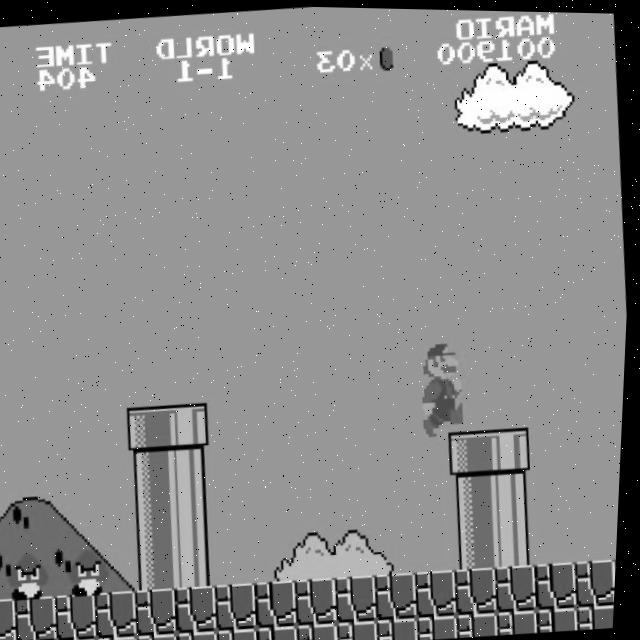0- big_mario: (419, 337, 473, 435)
14- pipe: (492, 469, 539, 519), (455, 518, 502, 568), (175, 537, 222, 587), (135, 540, 182, 590), (170, 446, 217, 495), (130, 449, 177, 498), (495, 515, 541, 565), (453, 472, 499, 522), (173, 492, 219, 542), (133, 495, 179, 544)
15- pipe_head: (450, 427, 497, 476), (168, 401, 215, 450), (490, 424, 536, 473), (128, 404, 174, 453)
17- undestructible_block: (537, 558, 584, 608), (457, 563, 504, 613), (417, 566, 464, 616), (377, 569, 424, 619), (257, 577, 304, 627), (217, 580, 264, 630), (137, 586, 184, 636), (497, 561, 544, 610), (297, 575, 344, 624), (97, 589, 144, 638), (338, 572, 384, 622), (178, 583, 224, 633), (58, 591, 104, 640), (577, 555, 621, 605), (18, 594, 64, 640), (540, 603, 584, 630), (500, 606, 544, 633), (461, 609, 505, 636), (420, 612, 464, 638), (380, 615, 424, 640), (580, 601, 619, 627), (1, 596, 24, 640), (340, 617, 384, 640), (301, 620, 345, 640), (261, 623, 304, 640), (221, 625, 264, 640), (181, 629, 224, 640), (141, 631, 184, 640), (101, 634, 144, 640)
8- goomba: (70, 544, 119, 598), (10, 548, 59, 602)
